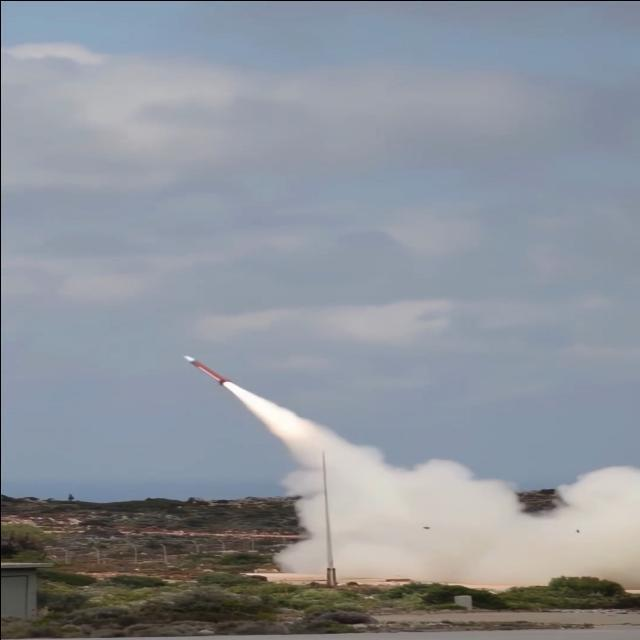Missile: (184, 345, 237, 390)
